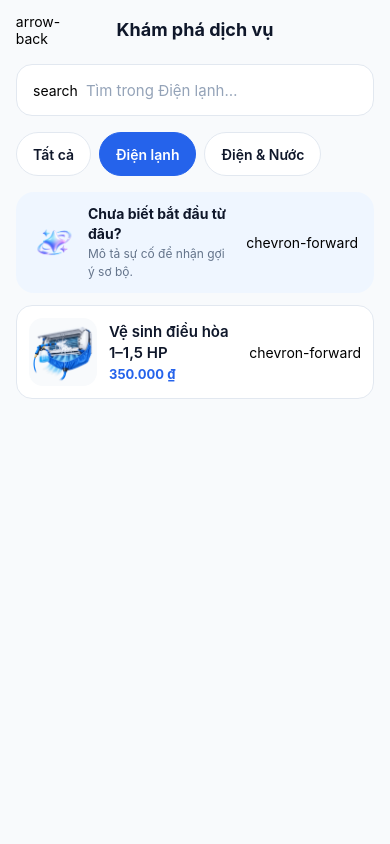
customer service loader behavior (mocked servicesApi, C-RUI3 M1) › clears the popular shortcut and category when browsing all categories (DIEN_LANH)
The width and height of the screenshot is (390, 844).
Click the button "Tất cả".
click(54, 154)  # box [16,132,91,176]
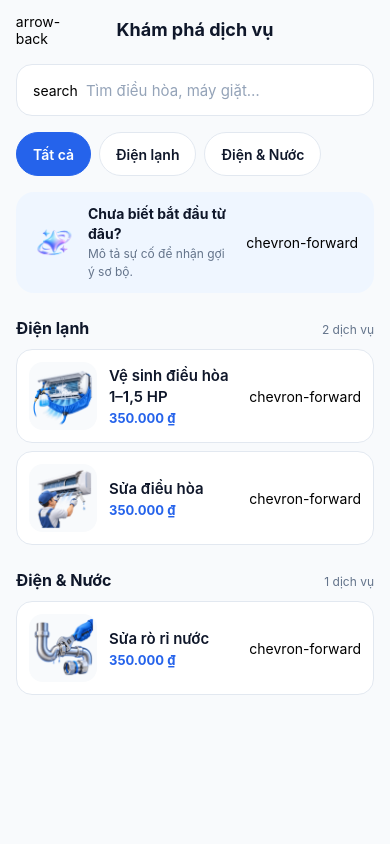
Check: the field with placeholder "Tìm điều hòa, máy giặt…" is empty, box [86,66,357,114]
Check: the button "Sửa điều hòa 350.000 ₫ chevron-forward" is shown, box [16,451,374,545]
Check: the button "Sửa rò rỉ nước 350.000 ₫ chevron-forward" is shown, box [16,601,374,695]
